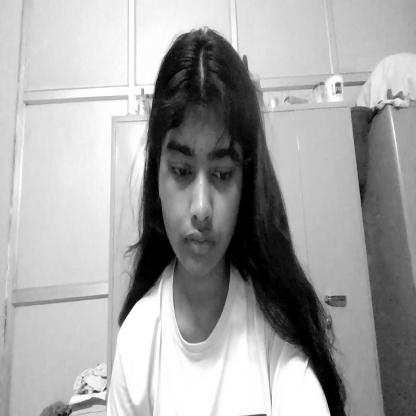Normal: (148, 34, 256, 284)
